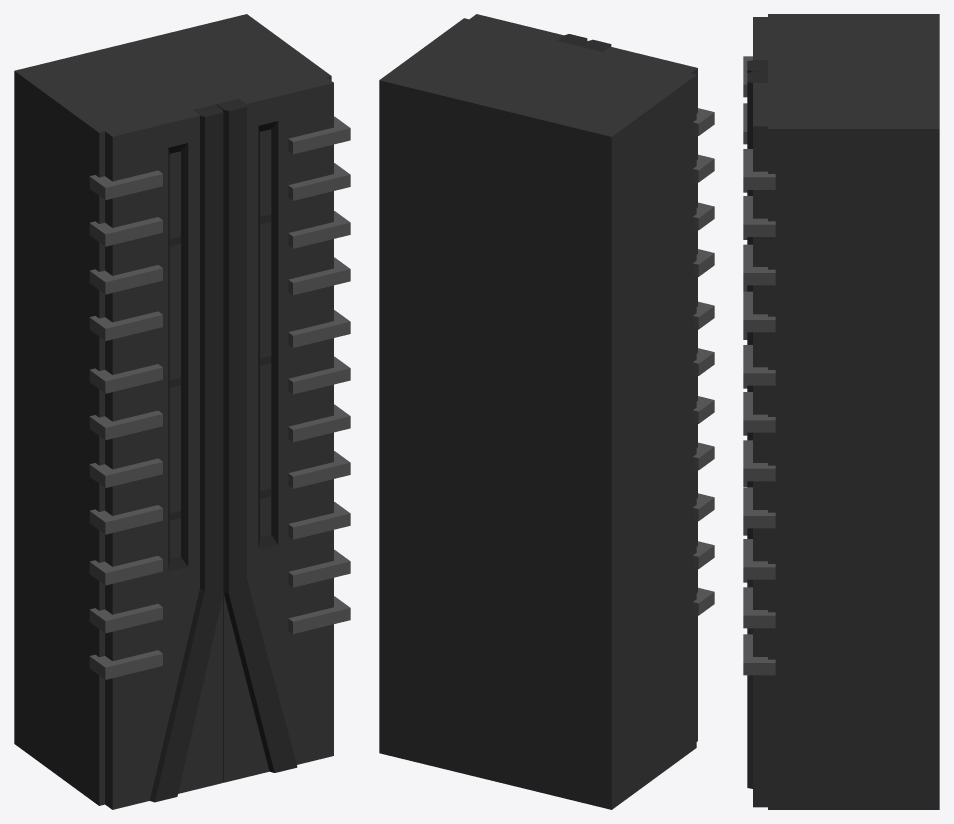
The model's file is shelf_D.FBX.
3 renders of one model, left to right at view 1: azimuth 30°, elevation 25°; view 2: azimuth 150°, elevation 25°; view 3: azimuth 270°, elevation 25°, orthographic.
Visible parts, largest first — view 1: shelf_D; view 2: shelf_D; view 3: shelf_D.
Part boxes in pixels (box(x1,y1,x2,y2)): shelf_D: box(14, 14, 350, 809); shelf_D: box(379, 14, 714, 809); shelf_D: box(743, 14, 939, 809).
Bounding box in the file's own units: 39.04 × 102 × 26.76.
